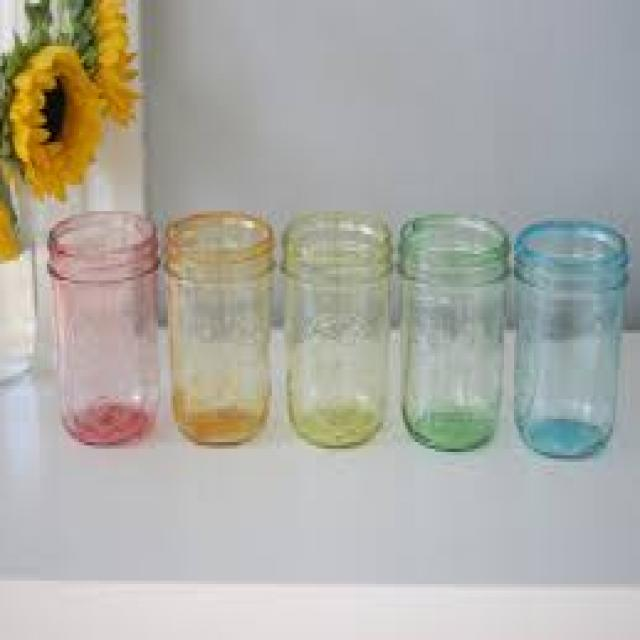organic waste: (8, 36, 102, 198), (64, 0, 143, 125), (0, 0, 47, 139), (0, 142, 22, 251)
